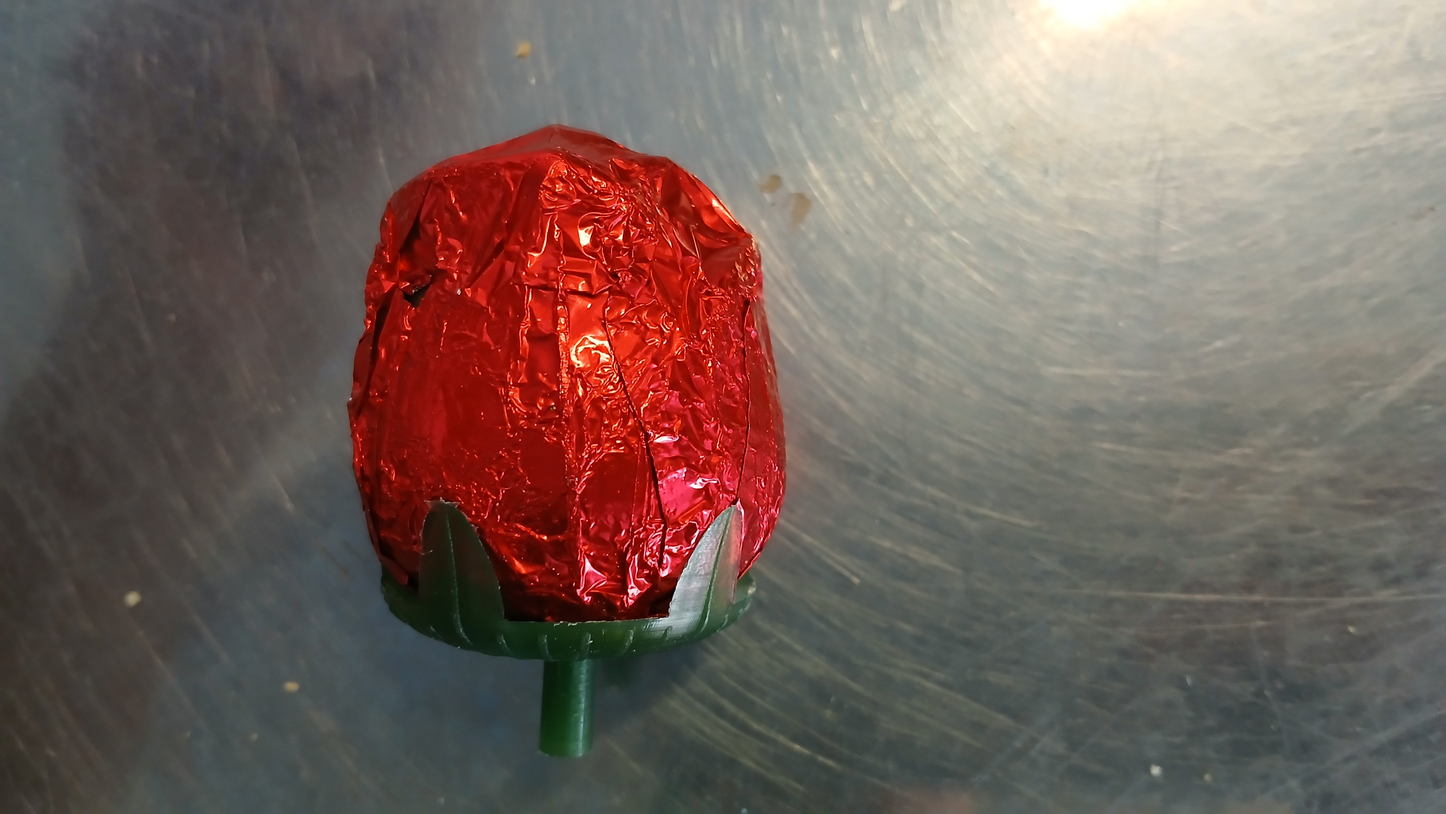Ordinario: (347, 125, 789, 761)
